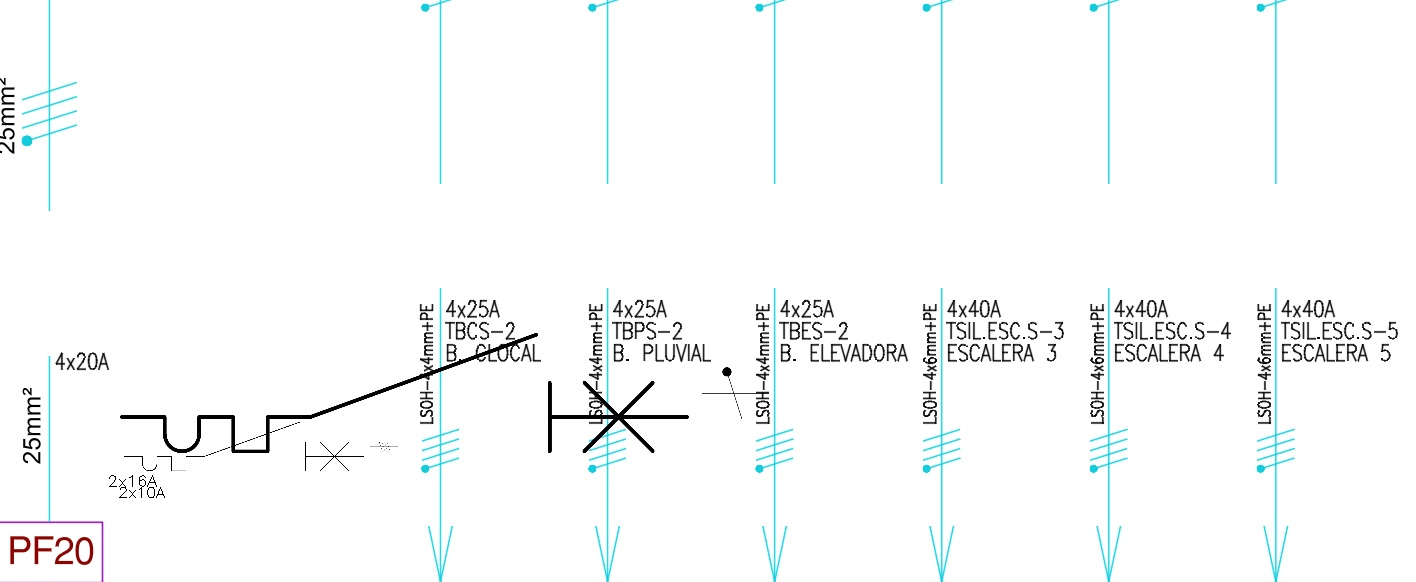interruptor_termomagnetico: (107, 320, 702, 466), (118, 416, 370, 477)
